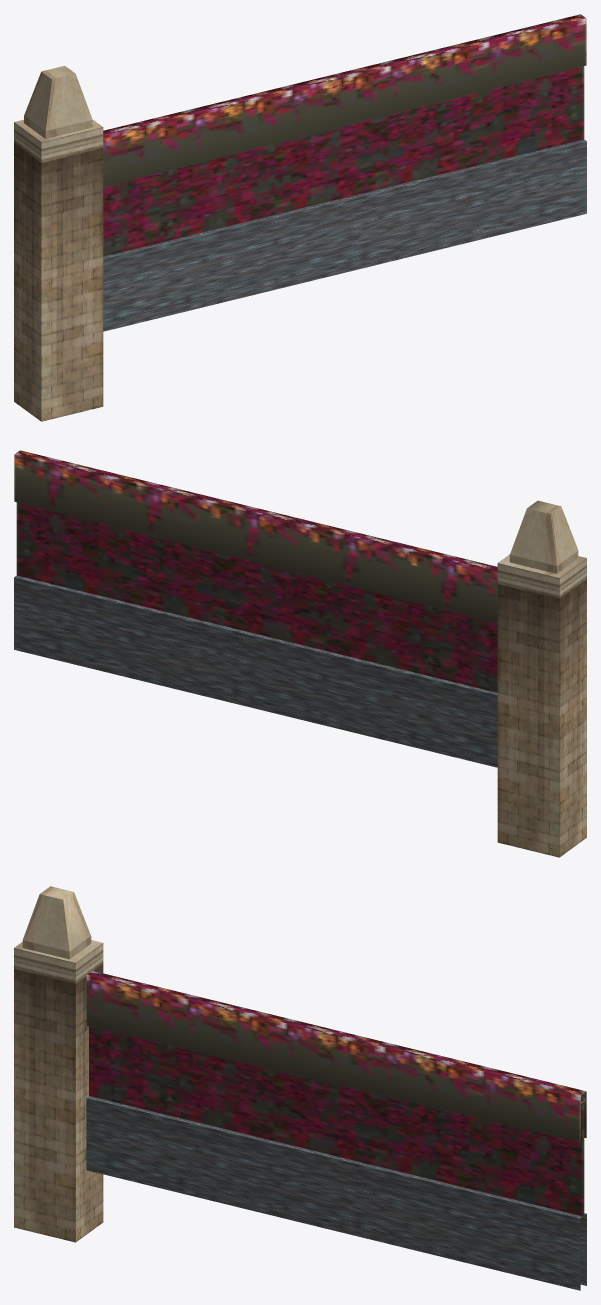
The model's file is thm_nboo_imprv_lattice_wall_long_s01_l2.fbx.
3 renders of one model, top to bottom at view 1: azimuth 30°, elevation 25°; view 2: azimuth 150°, elevation 25°; view 3: azimuth 330°, elevation 25°, orthographic.
Visible parts, largest first — view 1: mesh_node; view 2: mesh_node; view 3: mesh_node.
Part boxes in pixels (left/top/right/bottom): mesh_node: left=14, top=14, right=586, bottom=421; mesh_node: left=14, top=450, right=586, bottom=857; mesh_node: left=14, top=886, right=586, bottom=1290.
Bounding box in the file's own units: 9 × 5.14 × 0.7695.
3 materials, 3 textured.
